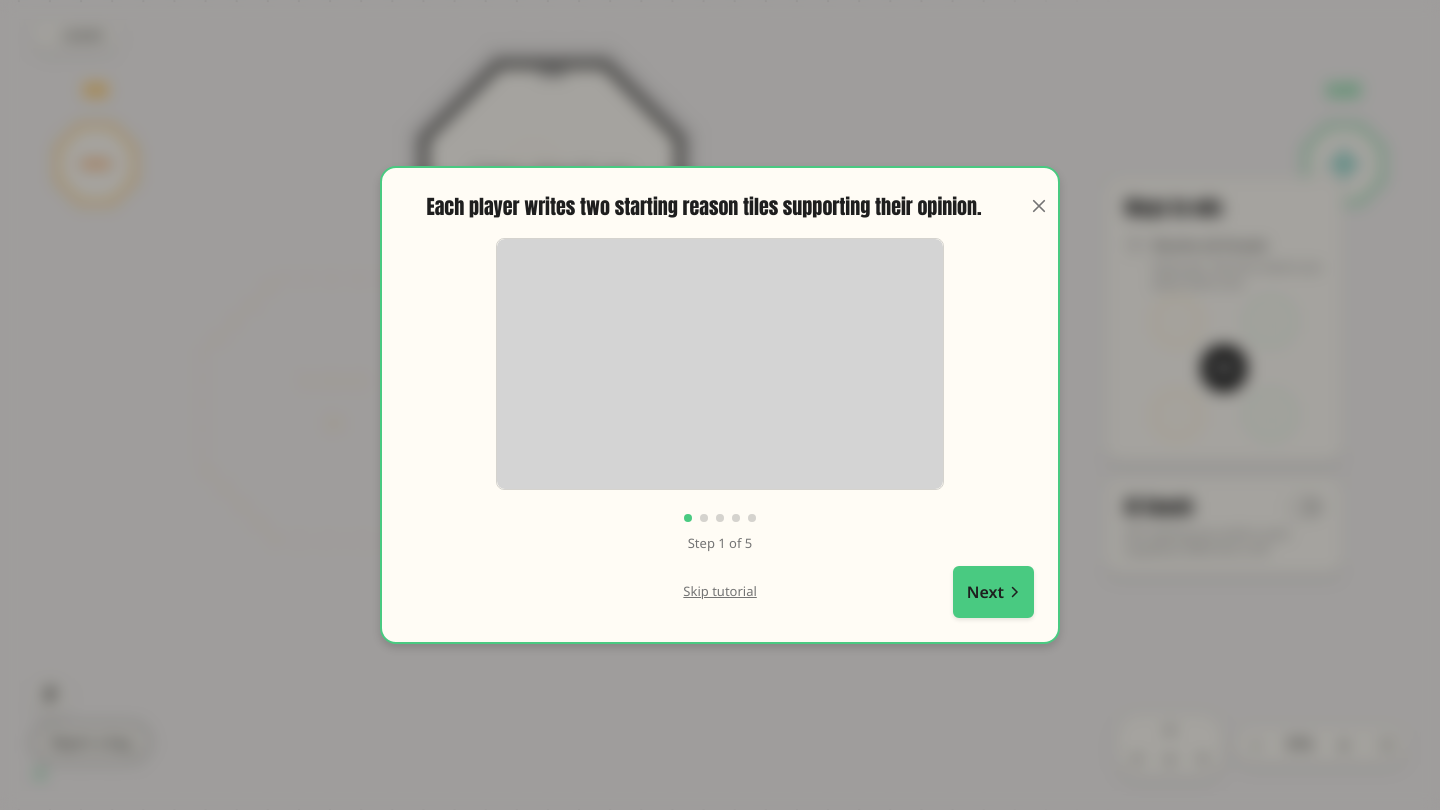
Test: LiveBoard: the header's Instructions button › reopens the overlay after it has been dismissed
Step 1. Click the button "Skip tutorial" → coordinates (720, 592), box [683,582,757,602]
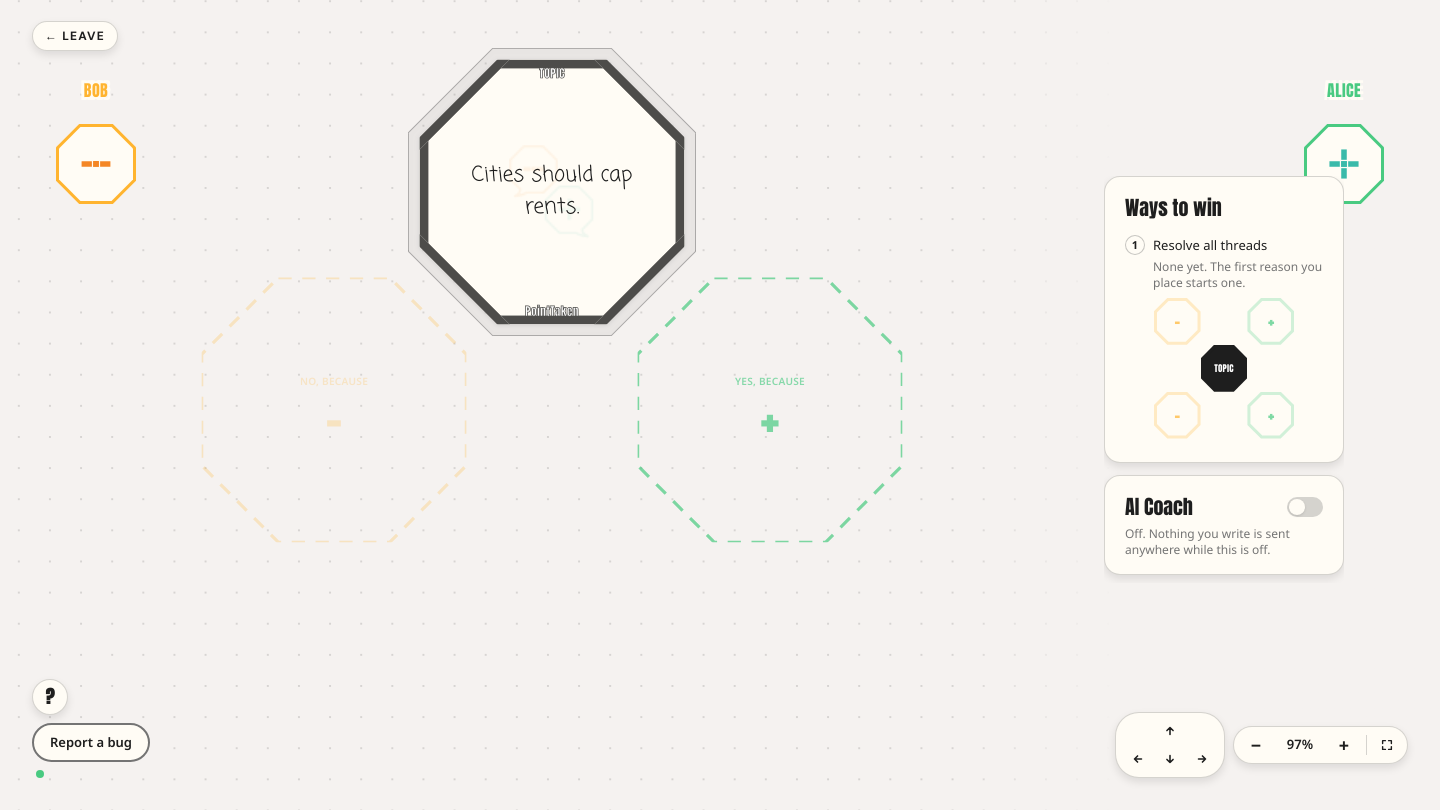
Check: the text "Step 1 of 5" is gone
Step 2. Click the button named "Instructions" → coordinates (50, 696), box [32,678,68,714]
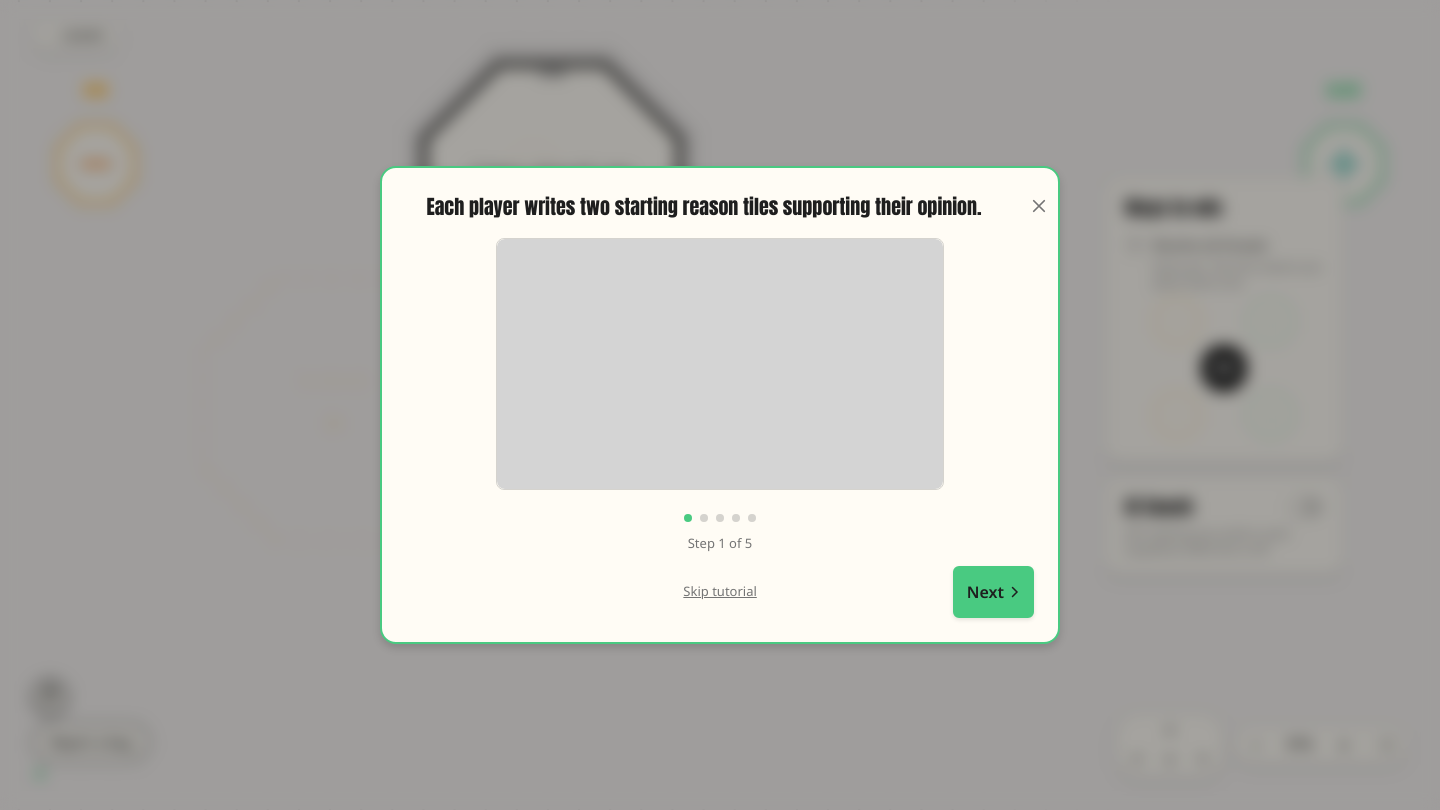
Check: the text "Step 1 of 5" is shown, box [688,534,752,554]
